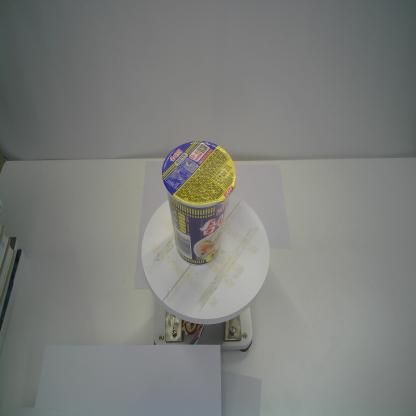Instant Noodles: (162, 140, 236, 268)
